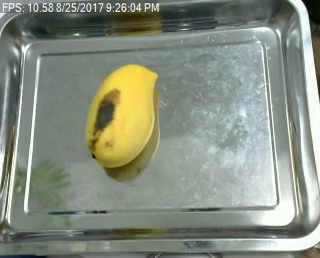Mango: (83, 64, 162, 168)
